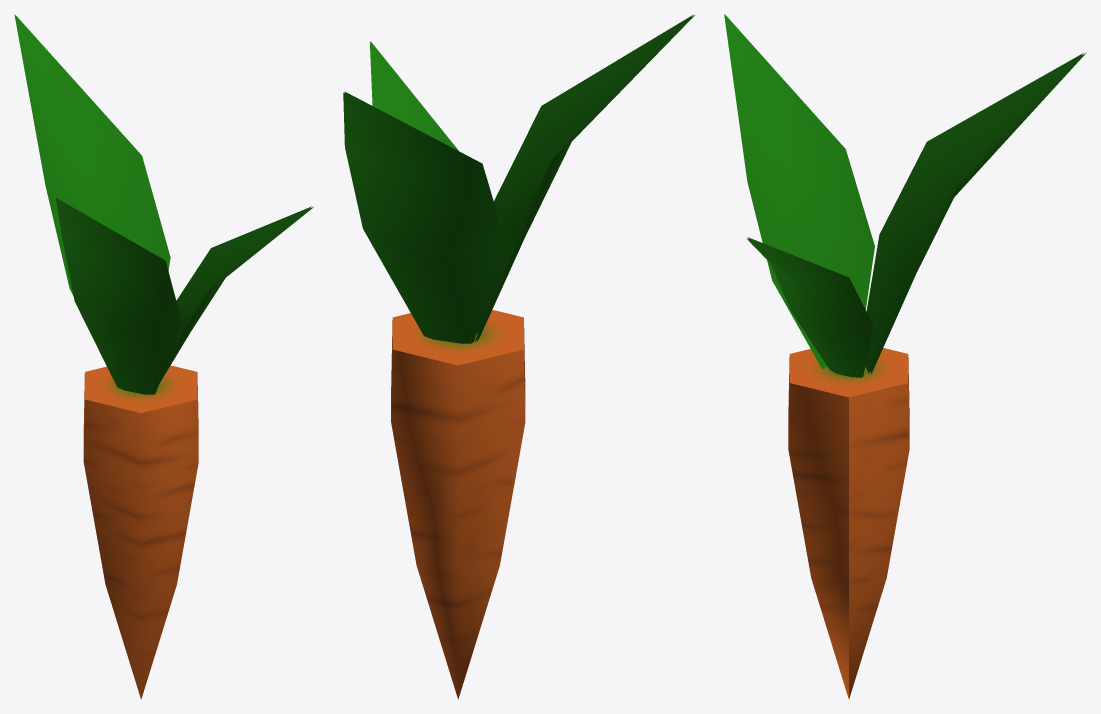
The model's file is Carrot.FBX.
The picture shows the model from 3 angles, left to right: view 1: azimuth 30°, elevation 25°; view 2: azimuth 150°, elevation 25°; view 3: azimuth 270°, elevation 25°; orthographic projection. The views are drawn at different scales.
Visible parts, largest first — view 1: Carrot_LOD0; view 2: Carrot_LOD0; view 3: Carrot_LOD0.
Part boxes in pixels (bbox=[...]): Carrot_LOD0: bbox=[14, 14, 313, 699]; Carrot_LOD0: bbox=[343, 14, 694, 699]; Carrot_LOD0: bbox=[724, 14, 1085, 698].
Size of what is drawn, in the model's own units: 52.47 by 113 by 58.06.
